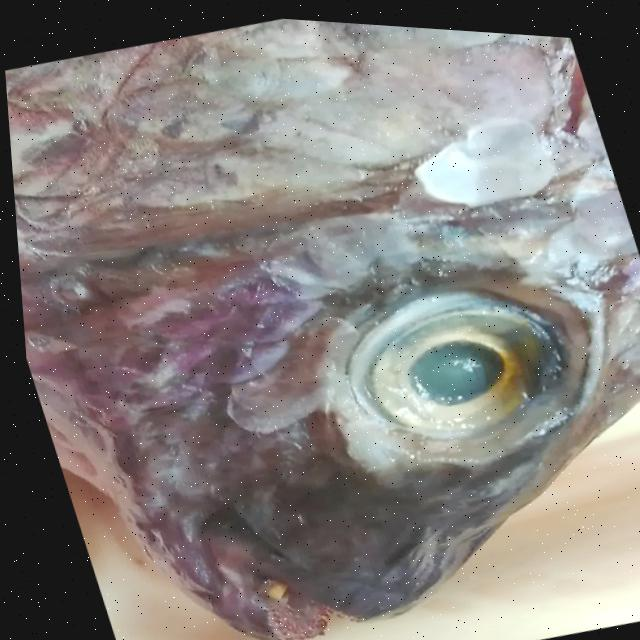Non-Fresh: (0, 0, 622, 371), (284, 229, 637, 498)
